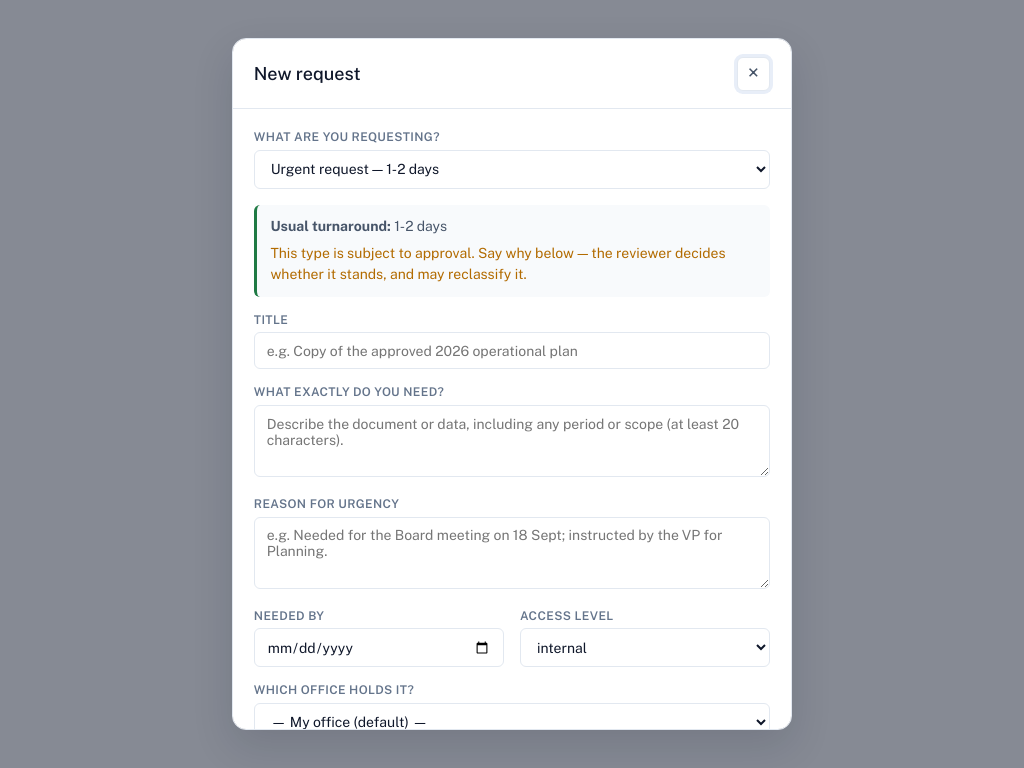
Scenario: NewRequestModal reason field › clears the reason when switching to a type that does not require one
Type "Some reason that was typed in." into the text box labelled "Reason for urgency" at (512, 552), box [254,516,770,588]
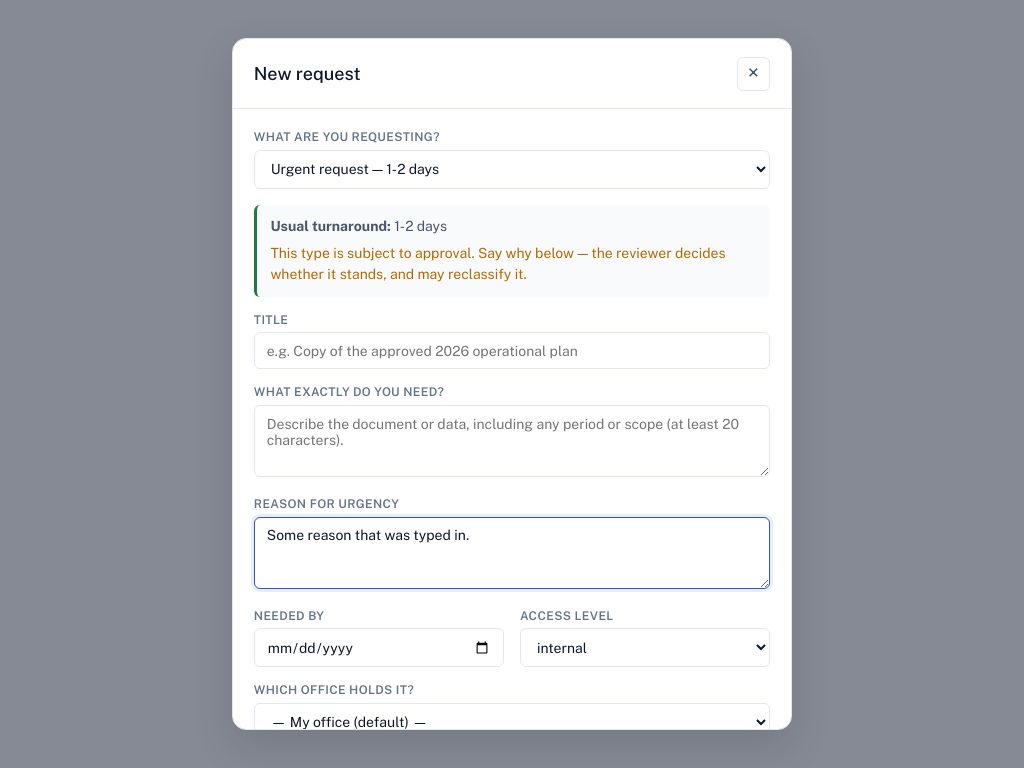
Select "Routine copy — 5-7 days" in the dropdown labelled "What are you requesting?" at (512, 169), box [254,150,770,189]
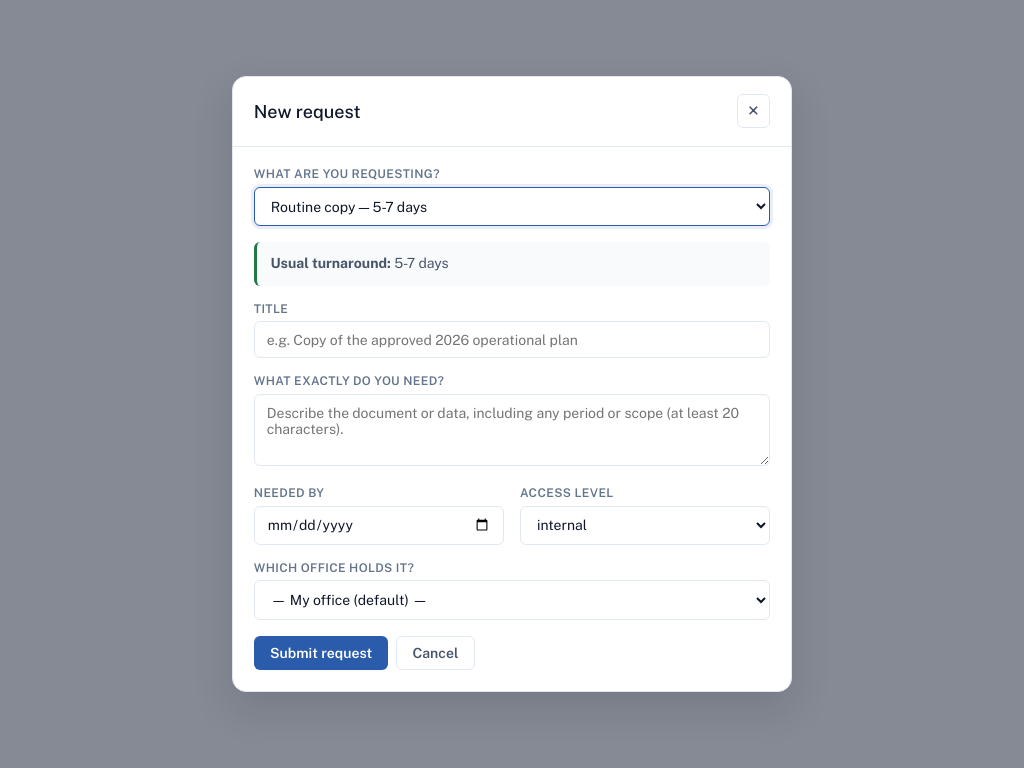
Check: the label labelled "Reason for" is gone
